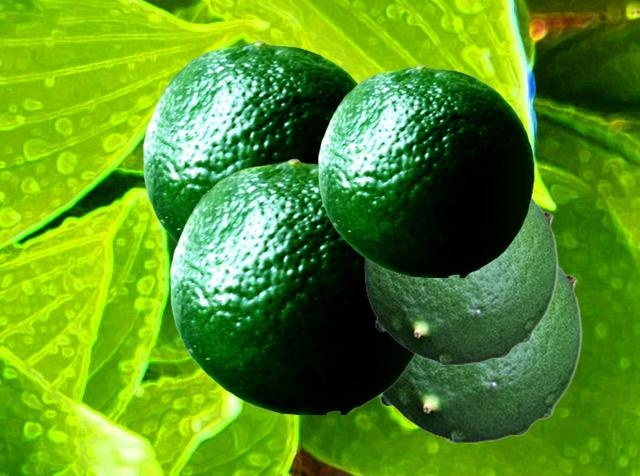calamansi: (170, 158, 415, 413), (318, 64, 533, 276), (143, 40, 358, 243), (377, 261, 581, 442), (364, 195, 557, 364)
